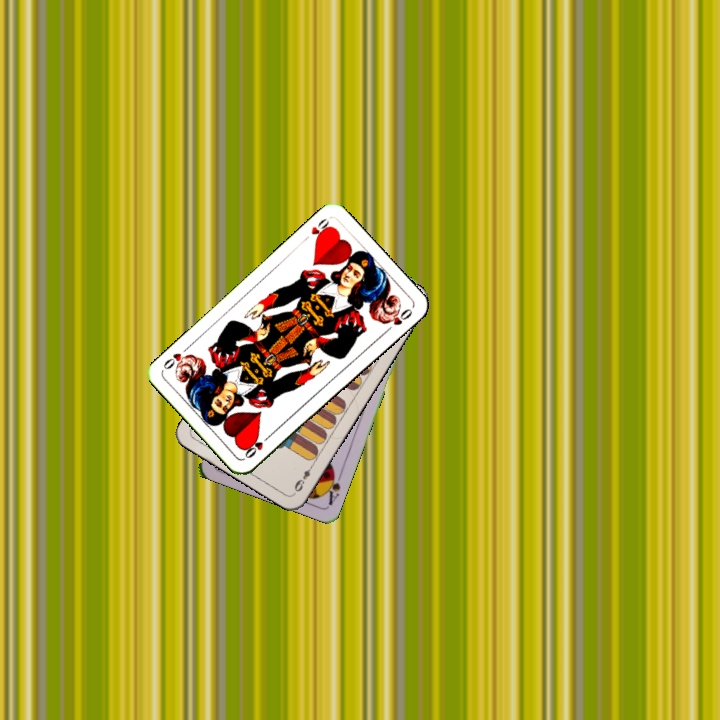E9: (290, 459, 317, 494)
HO: (298, 214, 334, 245), (241, 430, 274, 461)
SA: (320, 466, 345, 508)
